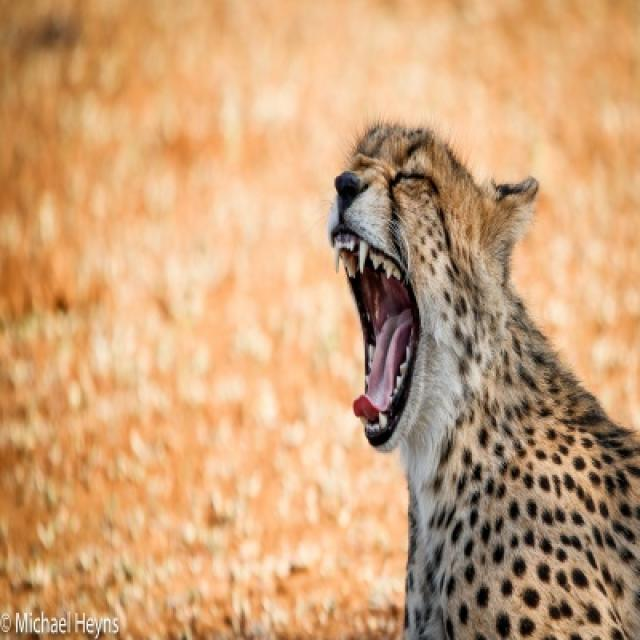Cheetah: (328, 123, 638, 638)
